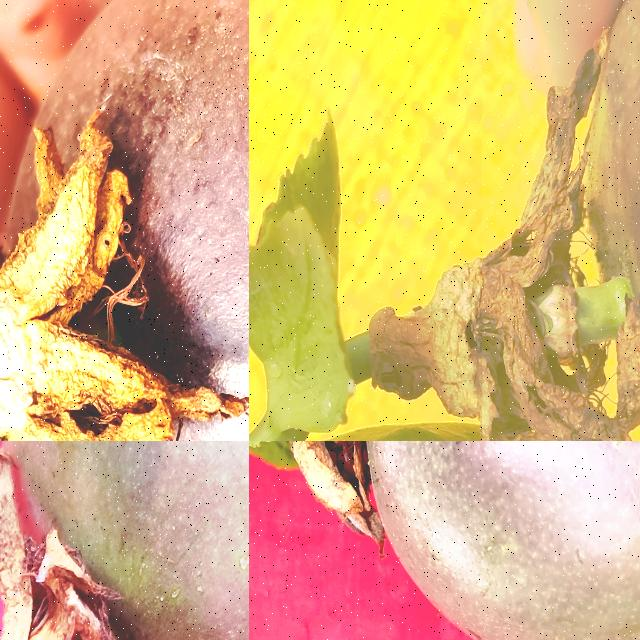Estado-2: (249, 441, 640, 640), (0, 441, 249, 640)
Estado-5: (0, 0, 249, 441)
